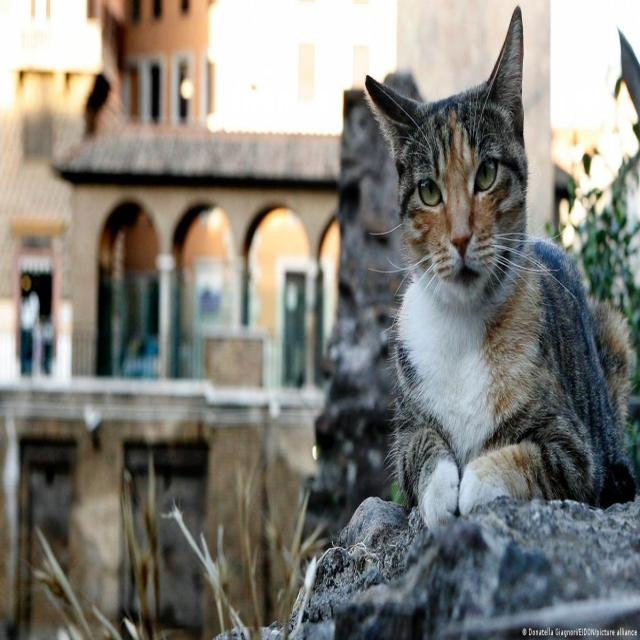cat: (366, 9, 635, 526)
